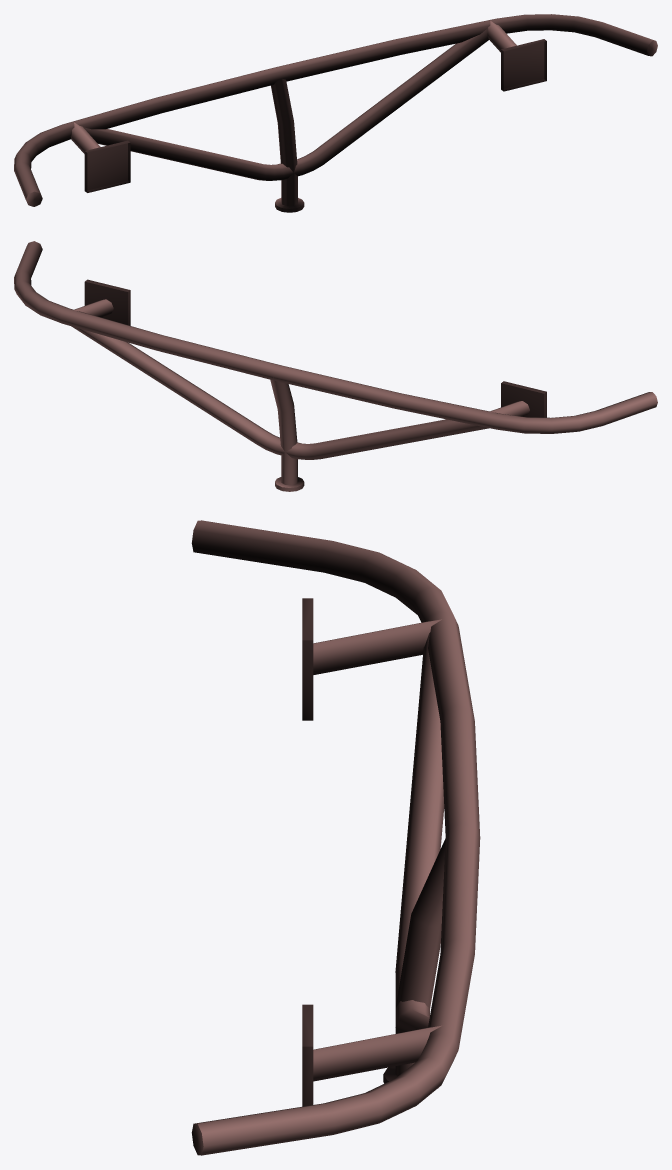
The model's file is Mustang16_RB_BB01_Trim.fbx.
3 views of the same model, one above another, from view 1: azimuth 30°, elevation 25°; view 2: azimuth 150°, elevation 25°; view 3: azimuth 270°, elevation 25° (orthographic). The views are drawn at different scales.
Parts seen in each view (by area): view 1: Mustang16_RB_BB01_Trim; view 2: Mustang16_RB_BB01_Trim; view 3: Mustang16_RB_BB01_Trim.
Boxes of the visible parts, x1=… form: Mustang16_RB_BB01_Trim: x1=14, y1=14, x2=657, y2=212; Mustang16_RB_BB01_Trim: x1=14, y1=241, x2=657, y2=491; Mustang16_RB_BB01_Trim: x1=191, y1=520, x2=480, y2=1155.
Size of the model in its own units: 169 by 33.21 by 33.42.
